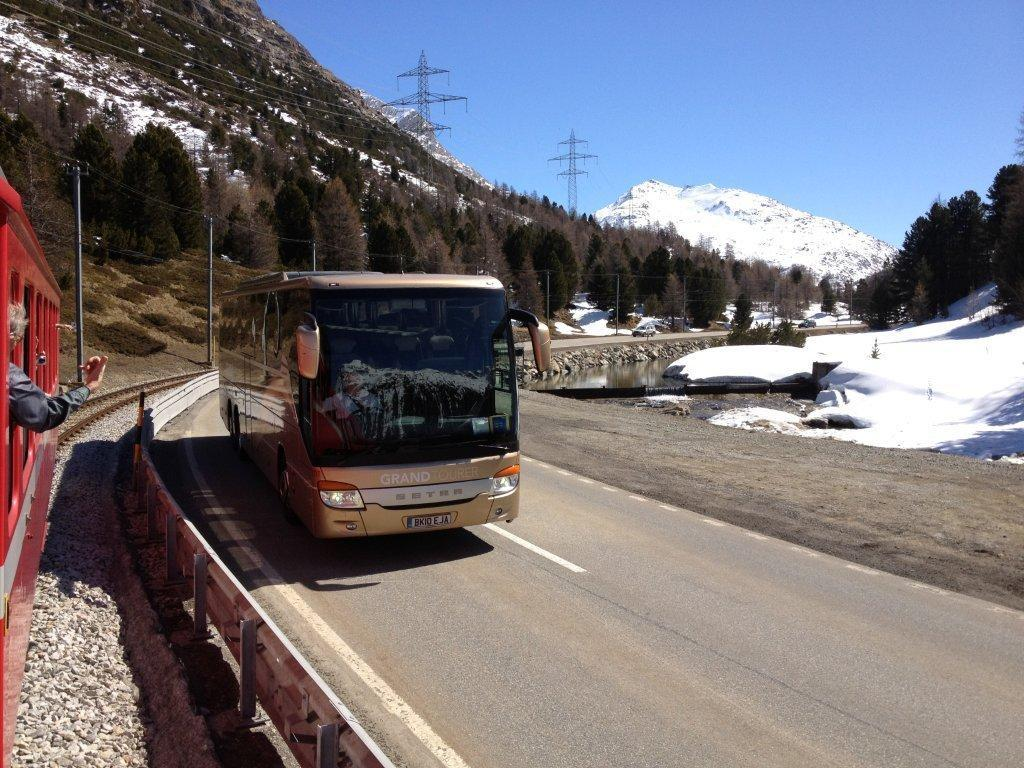Bus: (218, 268, 551, 548)
